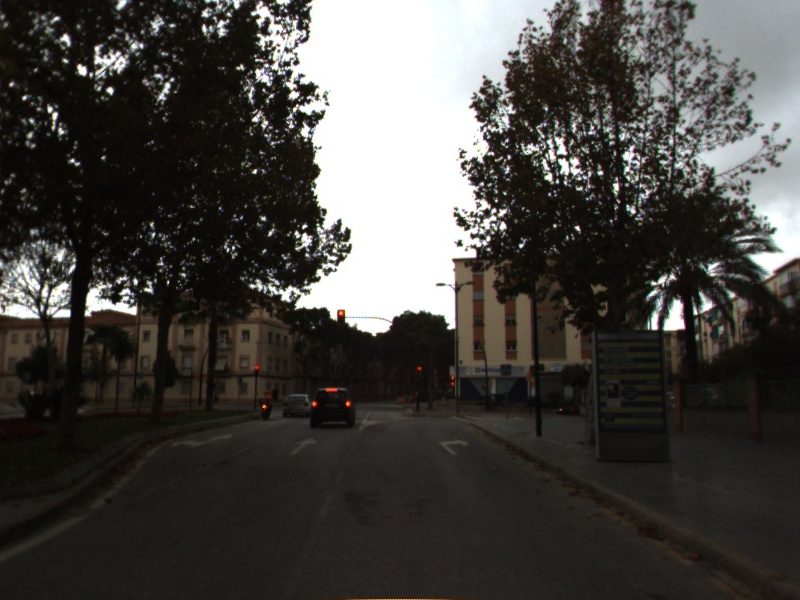RIGHT: (436, 436, 473, 457)
STRAIGHT: (286, 435, 320, 457)
STRAIGHT_LEFT: (168, 431, 236, 450)
